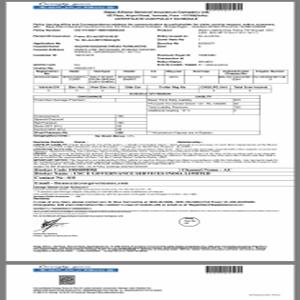table: (33, 95, 262, 140), (34, 69, 288, 84), (33, 85, 273, 94)
text: (31, 22, 280, 69), (30, 141, 290, 168), (31, 242, 269, 257), (100, 9, 214, 21)
